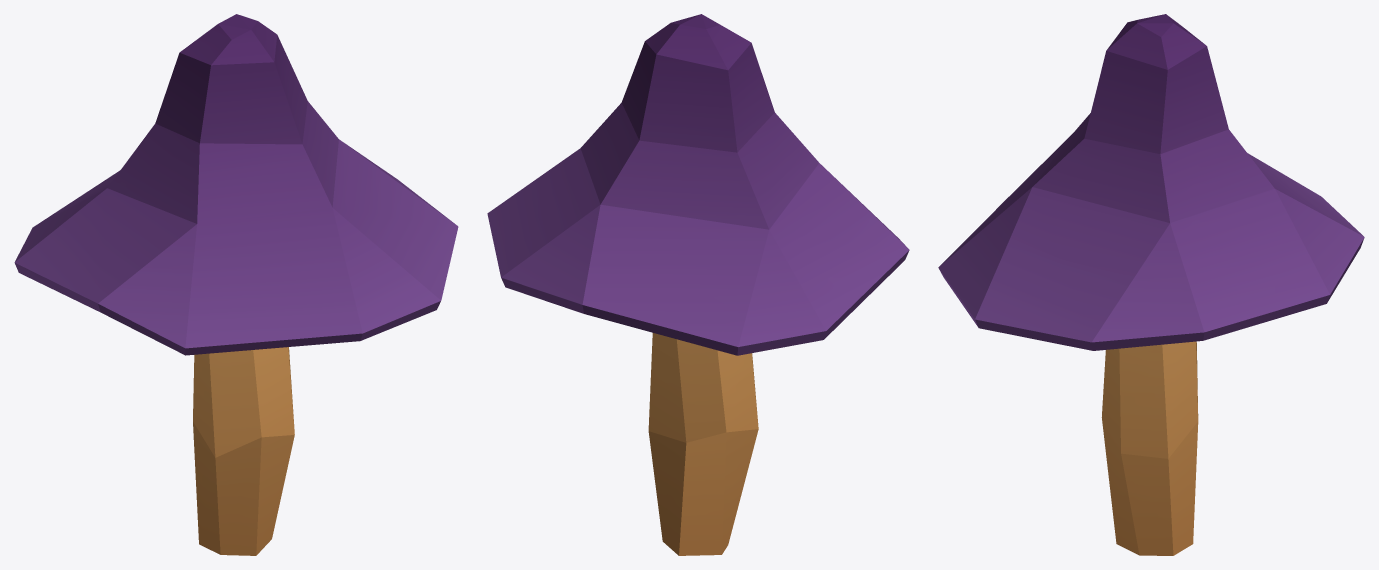
File: mushroom_purple_small.fbx
The picture shows the model from 3 angles, left to right: view 1: azimuth 30°, elevation 25°; view 2: azimuth 150°, elevation 25°; view 3: azimuth 270°, elevation 25°; orthographic projection.
Visible parts, largest first — view 1: mushroom_purple_small; view 2: mushroom_purple_small; view 3: mushroom_purple_small.
Boxes of the visible parts, x1,y1,x2,y2 form: mushroom_purple_small: [14, 14, 458, 555]; mushroom_purple_small: [487, 14, 909, 555]; mushroom_purple_small: [938, 14, 1364, 555].
Bounding box in the file's own units: 0.4 × 0.55 × 0.4.
Materials: 1 (1 with a texture image).
